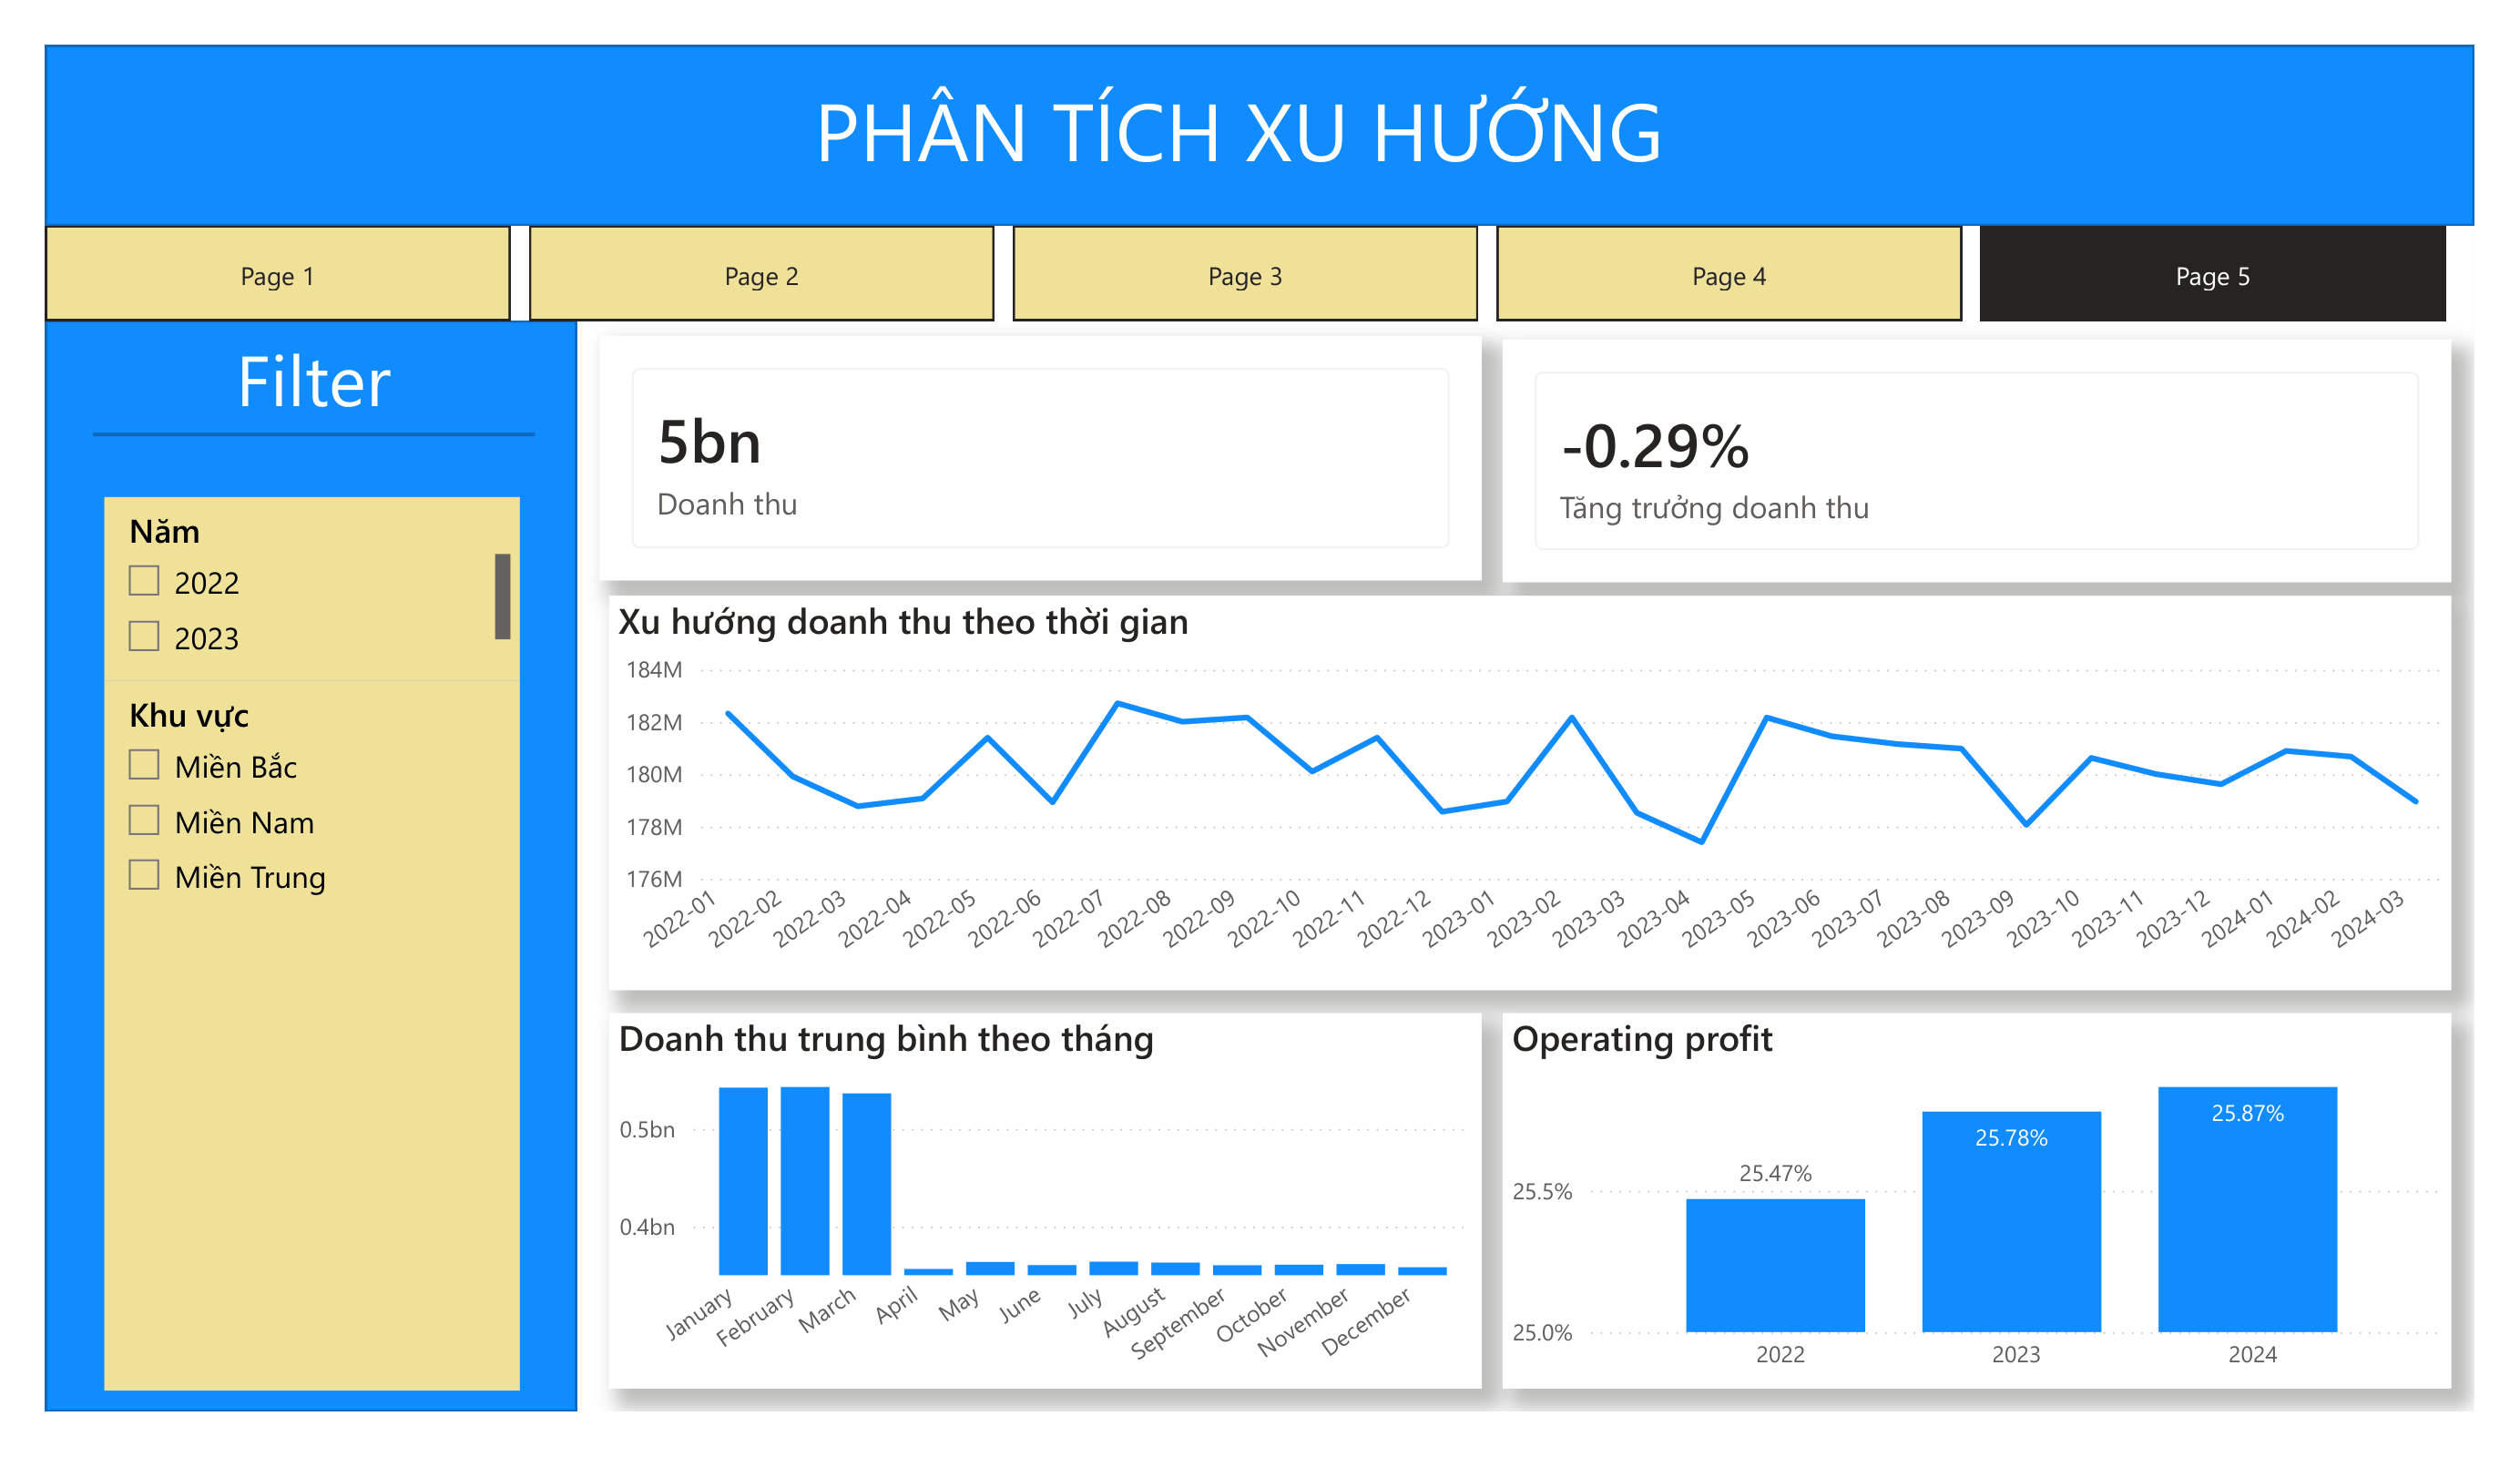

What the dashboard file says about the page in this screenshot:
{"tool":"powerbi","page":{"name":"Page 5","canvas":[1280,720],"ordinal":4},"visuals":[{"type":"shape","box":[0,145,280,575],"z":0},{"type":"textbox","box":[31.7,145,218.3,60],"z":1000},{"type":"shape","box":[25,193.3,233.3,23.3],"z":2000},{"type":"slicer","fields":{"Values":["D_Date.Năm"]},"box":[31.2,237.5,218.8,97.5],"z":3000},{"type":"slicer","fields":{"Values":["dim_store.Khu vực"]},"box":[31.2,335,218.8,373.8],"z":4000},{"type":"pageNavigator","box":[0,95,1268.8,50],"z":5000},{"type":"shape","box":[0,0,1280,95],"z":6000},{"type":"textbox","box":[400,10,470,75],"z":7000},{"type":"cardVisual","fields":{"Data":["M.Doanh thu"]},"box":[291.7,153.3,465,128.3],"z":8000},{"type":"cardVisual","fields":{"Data":["M.Tăng trưởng doanh thu"]},"box":[768.3,155,500,128.3],"z":9000},{"type":"lineChart","title":"Xu hướng doanh thu theo thời gian","fields":{"Category":["D_Date.Tháng"],"Y":["M.Doanh thu"]},"box":[296.7,290,971.7,208.3],"z":10000},{"type":"clusteredColumnChart","title":"Doanh thu trung bình theo tháng","fields":{"Category":["D_Date.Date.Variation.Date Hierarchy.Month"],"Y":["M.Doanh thu"]},"box":[296.7,510,460,198.3],"z":11000},{"type":"clusteredColumnChart","title":"Operating profit ","fields":{"Category":["D_Date.Năm"],"Y":["M.Operating profit margin"]},"box":[768.3,510,500,198.3],"z":12000}]}

Visuals, with their boxes on the page's 1280x720 design canvas (x1, y1, x2, y2). These are canvas units, not pixel positions in the 2520x1457 screenshot, which may show the page scaled, cropped or inside an application window:
shape: bbox=[0, 145, 280, 720]
textbox: bbox=[32, 145, 250, 205]
shape: bbox=[25, 193, 258, 217]
slicer - D_Date.Năm: bbox=[31, 238, 250, 335]
slicer - dim_store.Khu vực: bbox=[31, 335, 250, 709]
pageNavigator: bbox=[0, 95, 1269, 145]
shape: bbox=[0, 0, 1280, 95]
textbox: bbox=[400, 10, 870, 85]
cardVisual - M.Doanh thu: bbox=[292, 153, 757, 282]
cardVisual - M.Tăng trưởng doanh thu: bbox=[768, 155, 1268, 283]
"Xu hướng doanh thu theo thời gian" lineChart: bbox=[297, 290, 1268, 498]
"Doanh thu trung bình theo tháng" clusteredColumnChart: bbox=[297, 510, 757, 708]
"Operating profit " clusteredColumnChart: bbox=[768, 510, 1268, 708]
